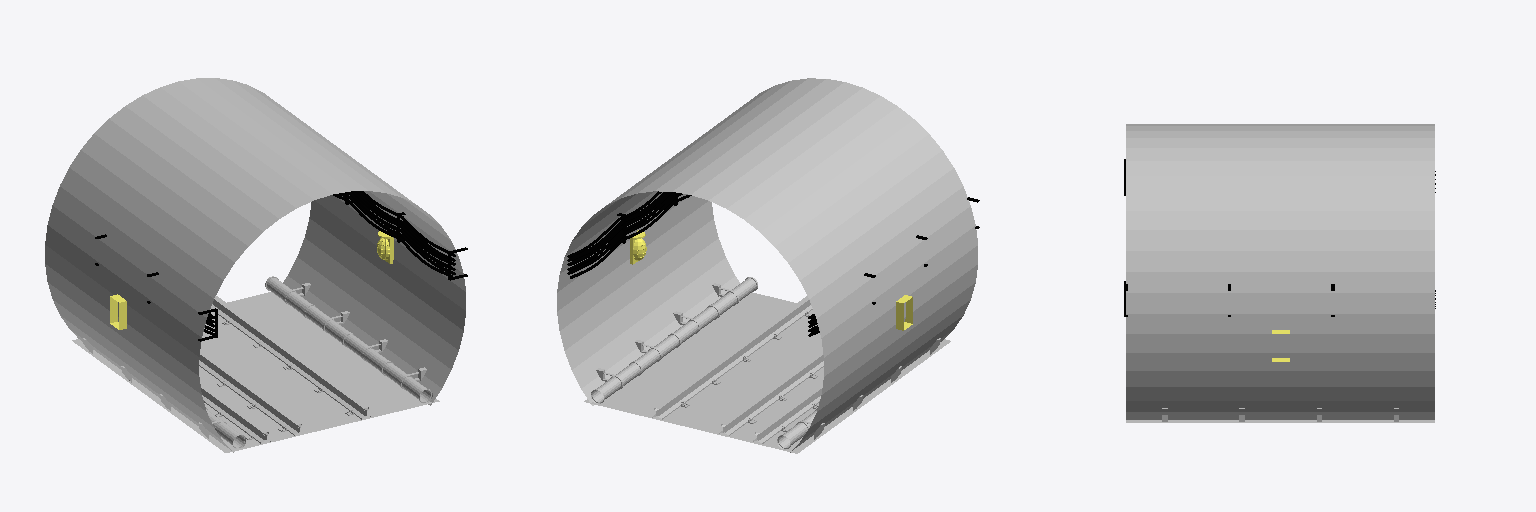
Rendered from subway_tunnel.obj.
The picture shows the model from 3 angles: view 1: azimuth 30°, elevation 25°; view 2: azimuth 150°, elevation 25°; view 3: azimuth 270°, elevation 25°; orthographic projection.
Parts seen in each view (by area): view 1: tunnel_Cylinder, grond_tunnel_Plane, pipeline_Cylinder.003, Cube.001, rail.001_Plane.002, rail.000_Plane.004, rail.002_Plane.005, Sphere.000_Sphere.003; view 2: tunnel_Cylinder, grond_tunnel_Plane, pipeline_Cylinder.003, Cube.001, rail.001_Plane.002, rail.000_Plane.004, rail.002_Plane.005, Sphere.000_Sphere.003; view 3: tunnel_Cylinder, grond_tunnel_Plane.
Part boxes in pixels (left/top/right/bottom): tunnel_Cylinder: left=45, top=78, right=465, bottom=452; grond_tunnel_Plane: left=72, top=292, right=439, bottom=452; pipeline_Cylinder.003: left=82, top=276, right=432, bottom=448; Cube.001: left=95, top=191, right=467, bottom=341; rail.001_Plane.002: left=211, top=296, right=370, bottom=419; rail.000_Plane.004: left=199, top=349, right=303, bottom=435; rail.002_Plane.005: left=200, top=382, right=270, bottom=443; Sphere.000_Sphere.003: left=110, top=231, right=393, bottom=329; tunnel_Cylinder: left=557, top=78, right=977, bottom=452; grond_tunnel_Plane: left=584, top=292, right=950, bottom=453; pipeline_Cylinder.003: left=591, top=277, right=940, bottom=449; Cube.001: left=567, top=191, right=979, bottom=336; rail.001_Plane.002: left=652, top=296, right=812, bottom=419; rail.000_Plane.004: left=719, top=350, right=823, bottom=435; rail.002_Plane.005: left=753, top=382, right=822, bottom=443; Sphere.000_Sphere.003: left=630, top=230, right=912, bottom=330; tunnel_Cylinder: left=1126, top=124, right=1434, bottom=419; grond_tunnel_Plane: left=1126, top=420, right=1434, bottom=422.
Size of the model in its own units: 8.43 by 6.73 by 8.06.